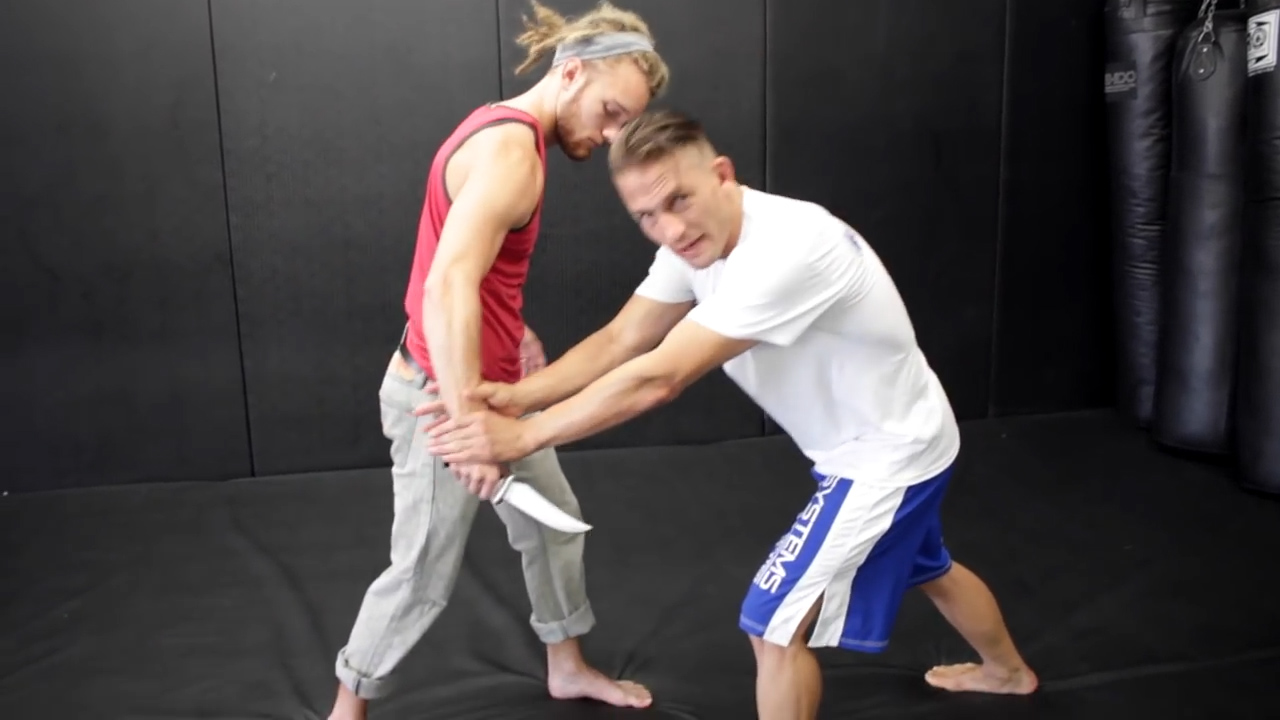knife: (433, 442, 608, 540)
